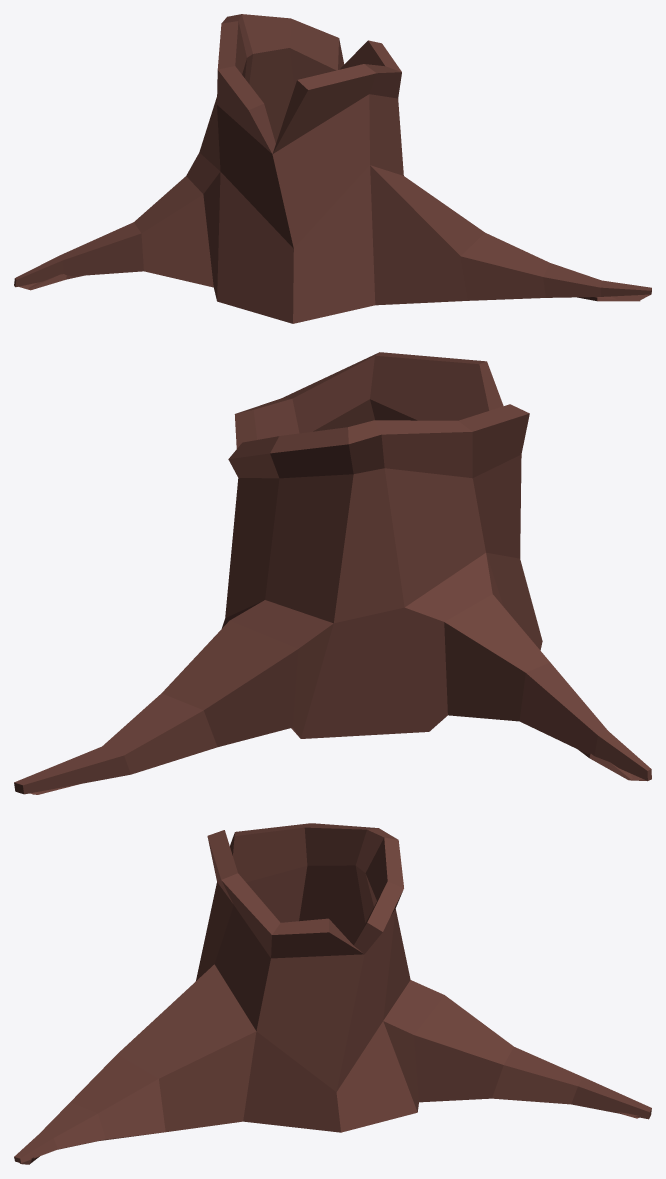
The model's file is TreeTrunk2.fbx.
3 views of the same model, one above another, from view 1: azimuth 30°, elevation 25°; view 2: azimuth 150°, elevation 25°; view 3: azimuth 270°, elevation 25° (orthographic). The views are drawn at different scales.
Parts seen in each view (by area): view 1: Trunk; view 2: Trunk; view 3: Trunk.
Boxes of the visible parts, left/top/right/bottom form: Trunk: left=14, top=14, right=651, bottom=323; Trunk: left=14, top=352, right=651, bottom=794; Trunk: left=14, top=823, right=651, bottom=1164.
Bounding box in the file's own units: 476 × 230 × 555.
